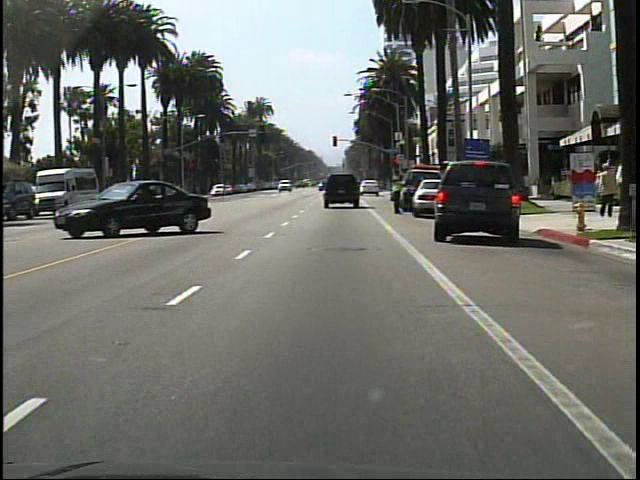person: (593, 160, 615, 222), (387, 171, 406, 219)
